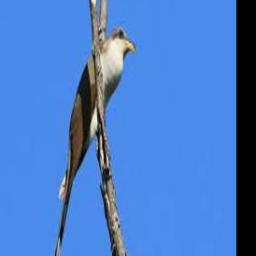Cuckoo: (50, 24, 136, 256)
